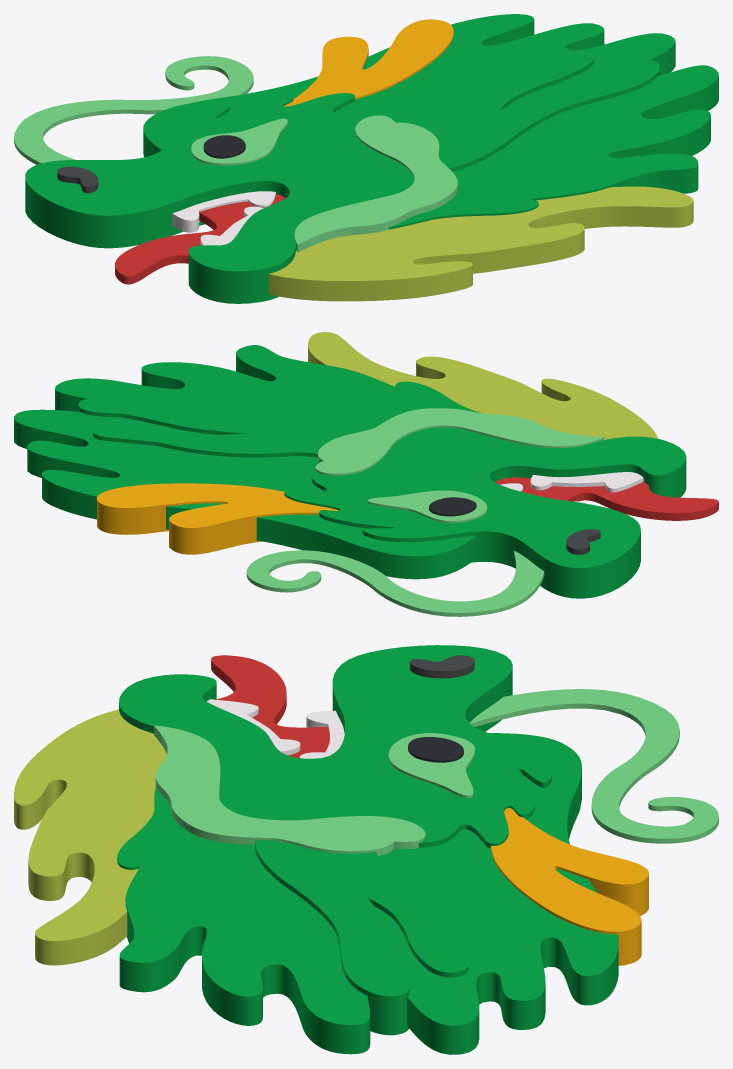
Rendered from emoji_u1f432.glb.
3 views of the same model, one above another, from view 1: azimuth 30°, elevation 25°; view 2: azimuth 150°, elevation 25°; view 3: azimuth 270°, elevation 25° (orthographic). The views are drawn at different scales.
Parts seen in each view (by area): view 1: emoji_u1f432; view 2: emoji_u1f432; view 3: emoji_u1f432.
Boxes of the visible parts, left/top/right/bottom form: emoji_u1f432: left=14, top=14, right=718, bottom=303; emoji_u1f432: left=14, top=332, right=718, bottom=616; emoji_u1f432: left=14, top=645, right=718, bottom=1054.
Size of the model in its own units: 0.0334 by 0.0022 by 0.0262.
